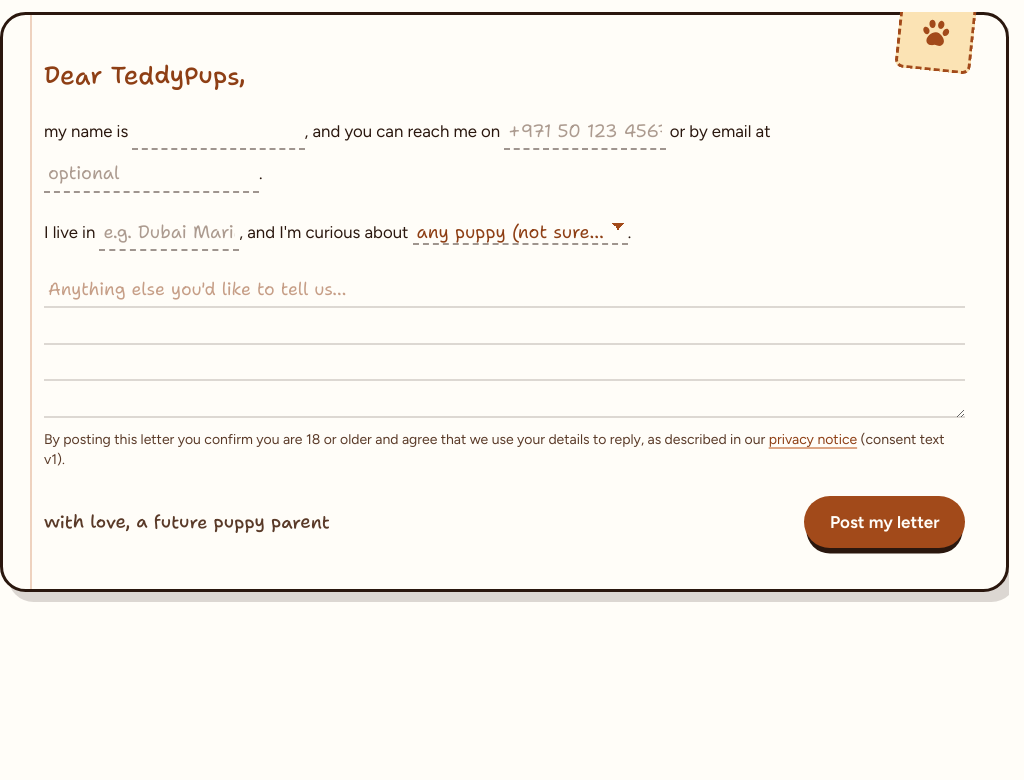
Scenario: LetterForm (contact) › posts a valid letter and shows the thank-you note
The width and height of the screenshot is (1024, 780).
Step 1. Type "Sam Test" into the field named "Your name (required)" → point(219, 132), box [132,115,305,150]
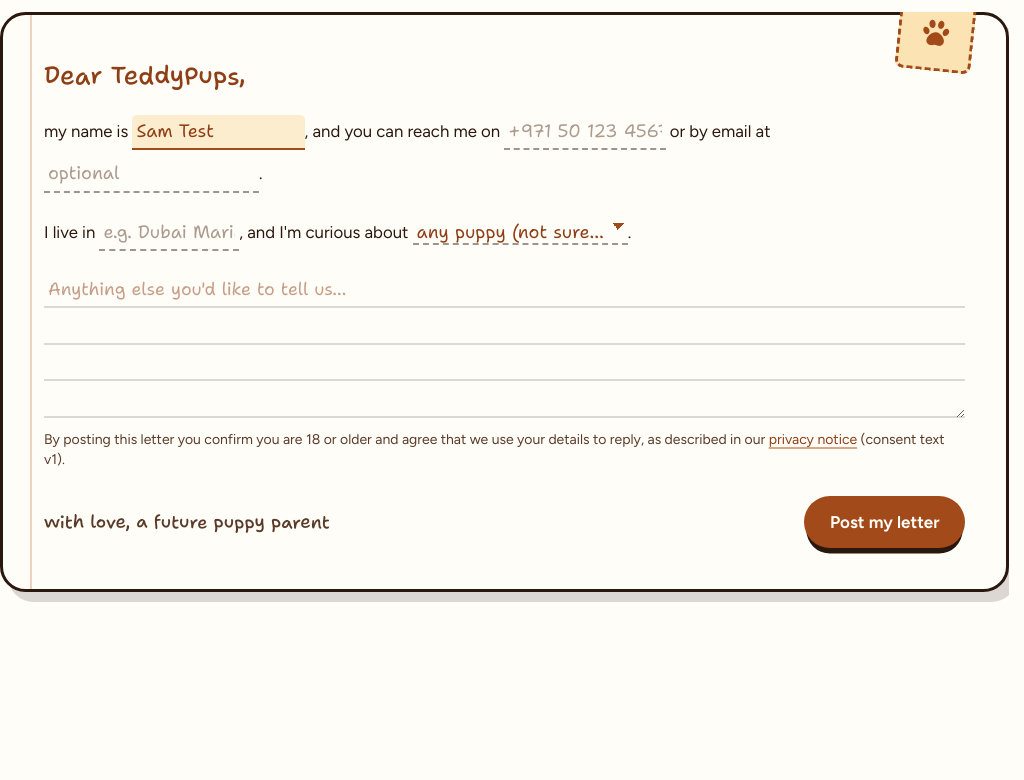
Step 2. Type "+971501234567" into the field named "Phone or WhatsApp" → point(585, 132), box [504,115,666,150]
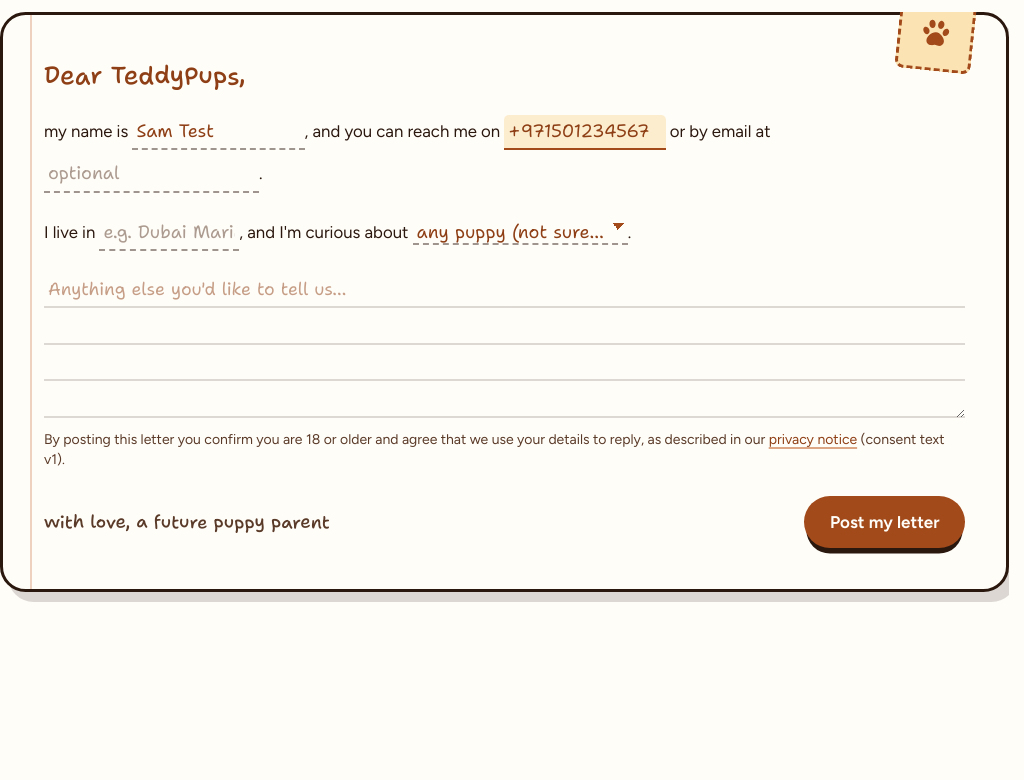
Step 3. Click the button "Post my letter" → point(885, 522), box [804,496,965,548]
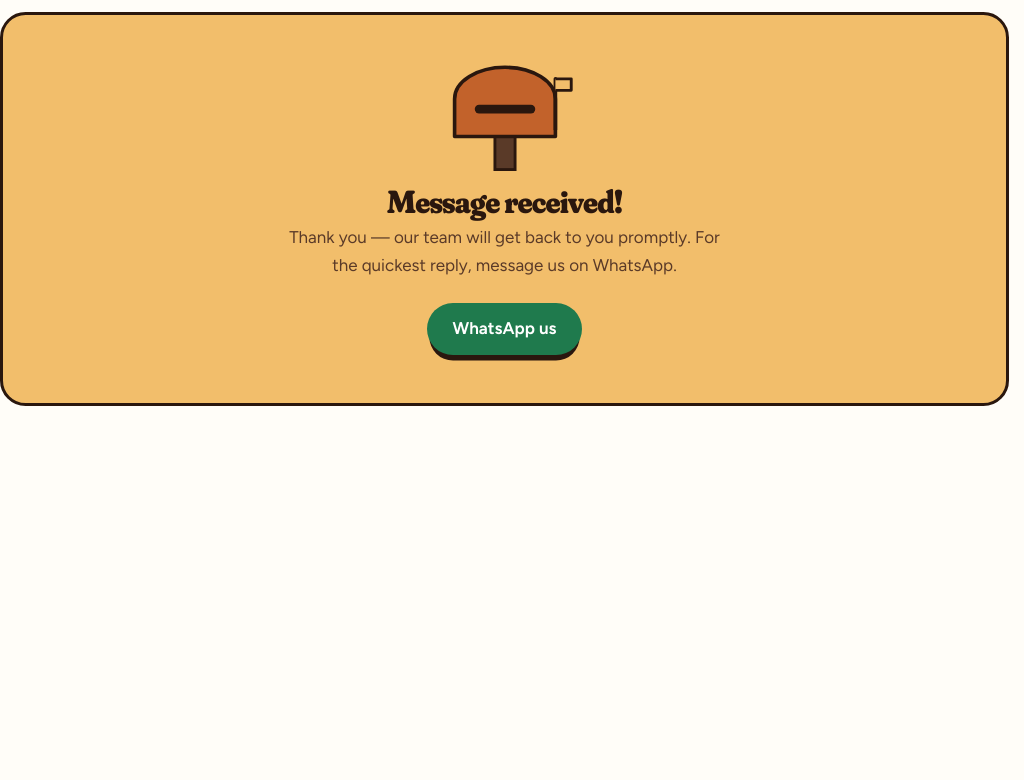
Result: the text "Message received!" is shown at [387,182,622,221]
